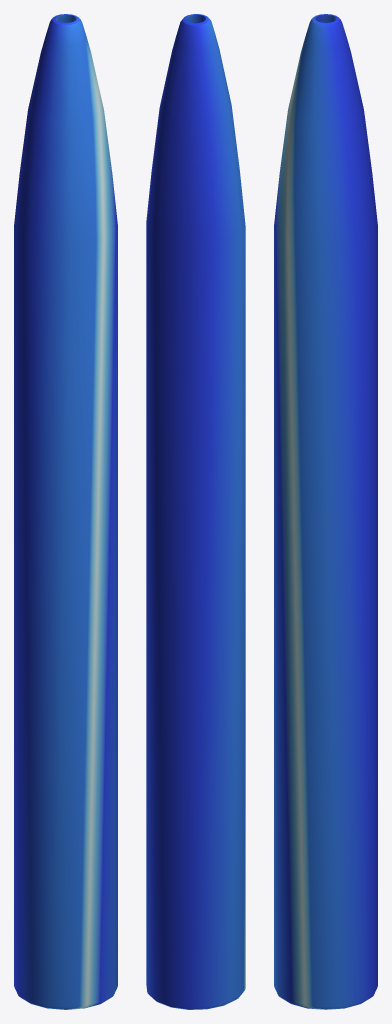
The model's file is ripple-pen-clear.obj.
3 renders of one model, left to right at view 1: azimuth 90°, elevation 25°; view 2: azimuth 150°, elevation 25°; view 3: azimuth 270°, elevation 25°, orthographic.
Size of the model in its own units: 15.28 by 165 by 15.93.
1 material, 1 textured.
